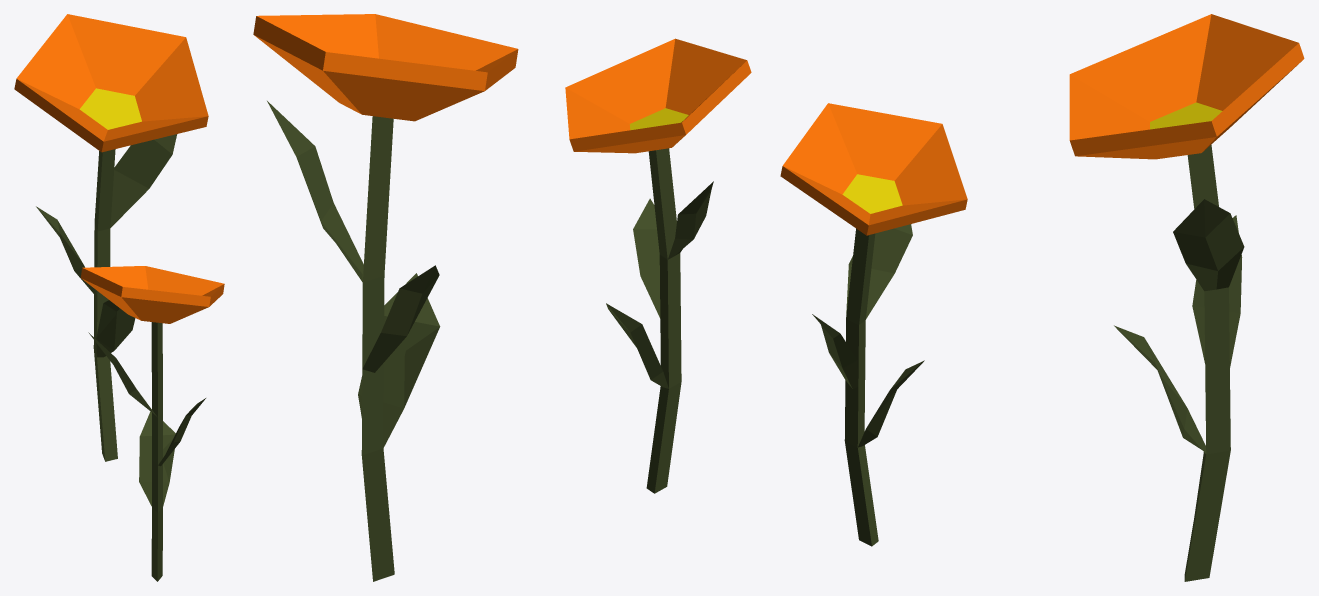
The model's file is Kolendula.fbx.
3 views of the same model, side by side, from view 1: azimuth 30°, elevation 25°; view 2: azimuth 150°, elevation 25°; view 3: azimuth 270°, elevation 25° (orthographic). The views are drawn at different scales.
Parts seen in each view (by area): view 1: календулв; view 2: календулв; view 3: календулв.
Part boxes in pixels (x1=…): календулв: x1=14, y1=14, x2=224, y2=581; календулв: x1=253, y1=14, x2=751, y2=581; календулв: x1=780, y1=14, x2=1304, y2=581.
Bounding box in the file's own units: 18.5 × 34.57 × 29.97.
